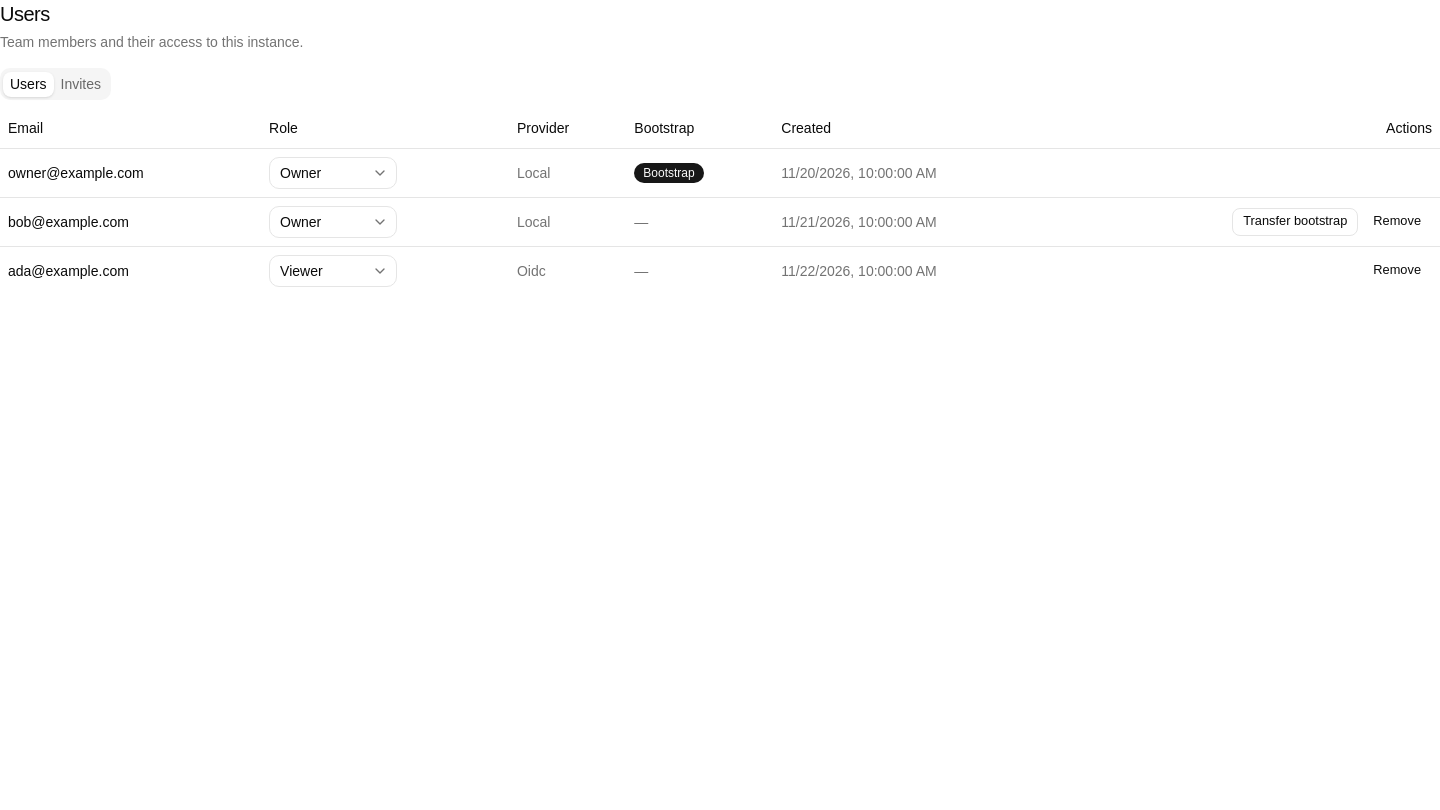
Scenario: users › creates an invite and shows only the link, not the token
Click the tab "Invites" at (81, 84), box [54,72,108,96]
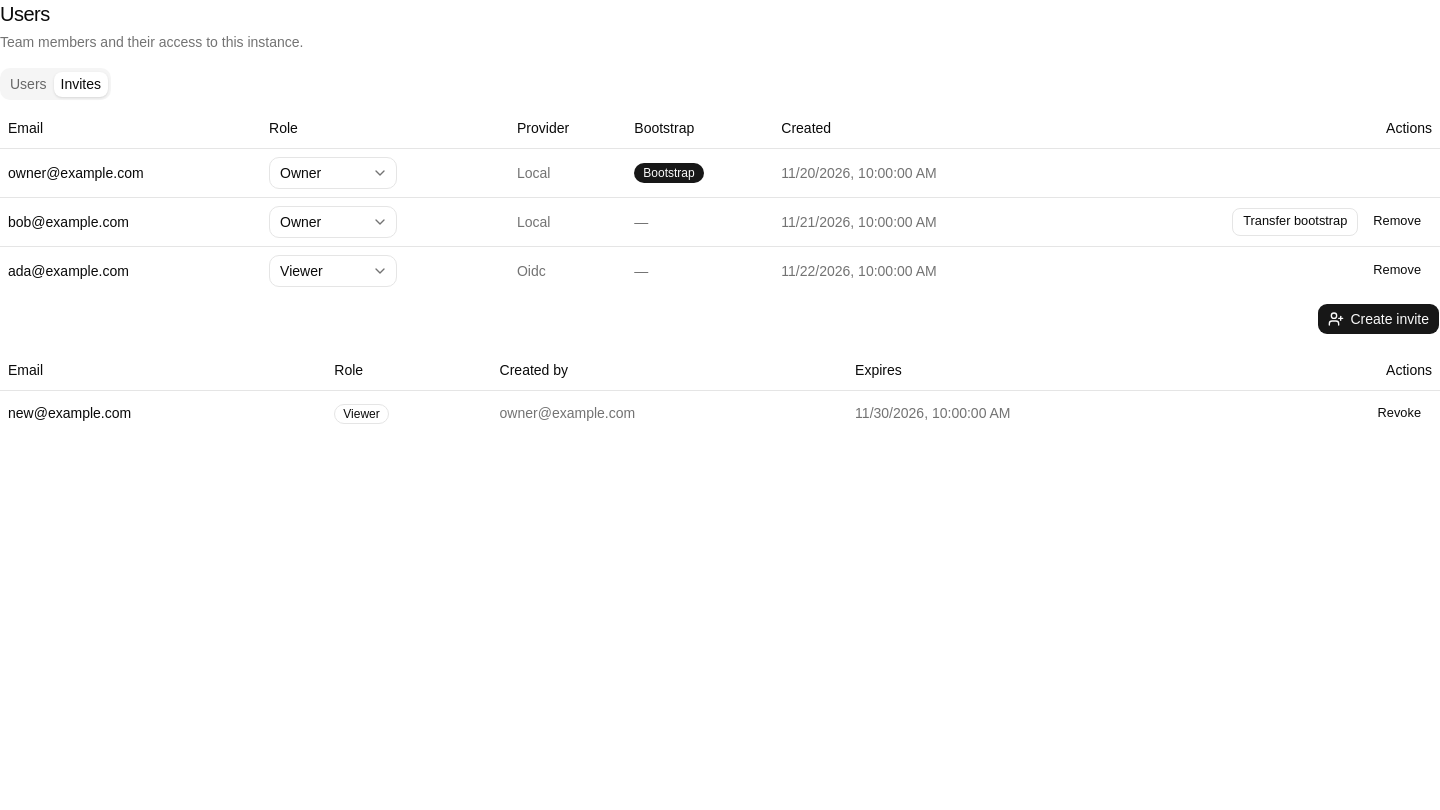
Click the button "Create invite" at (1379, 318), box [1317,302,1439,334]
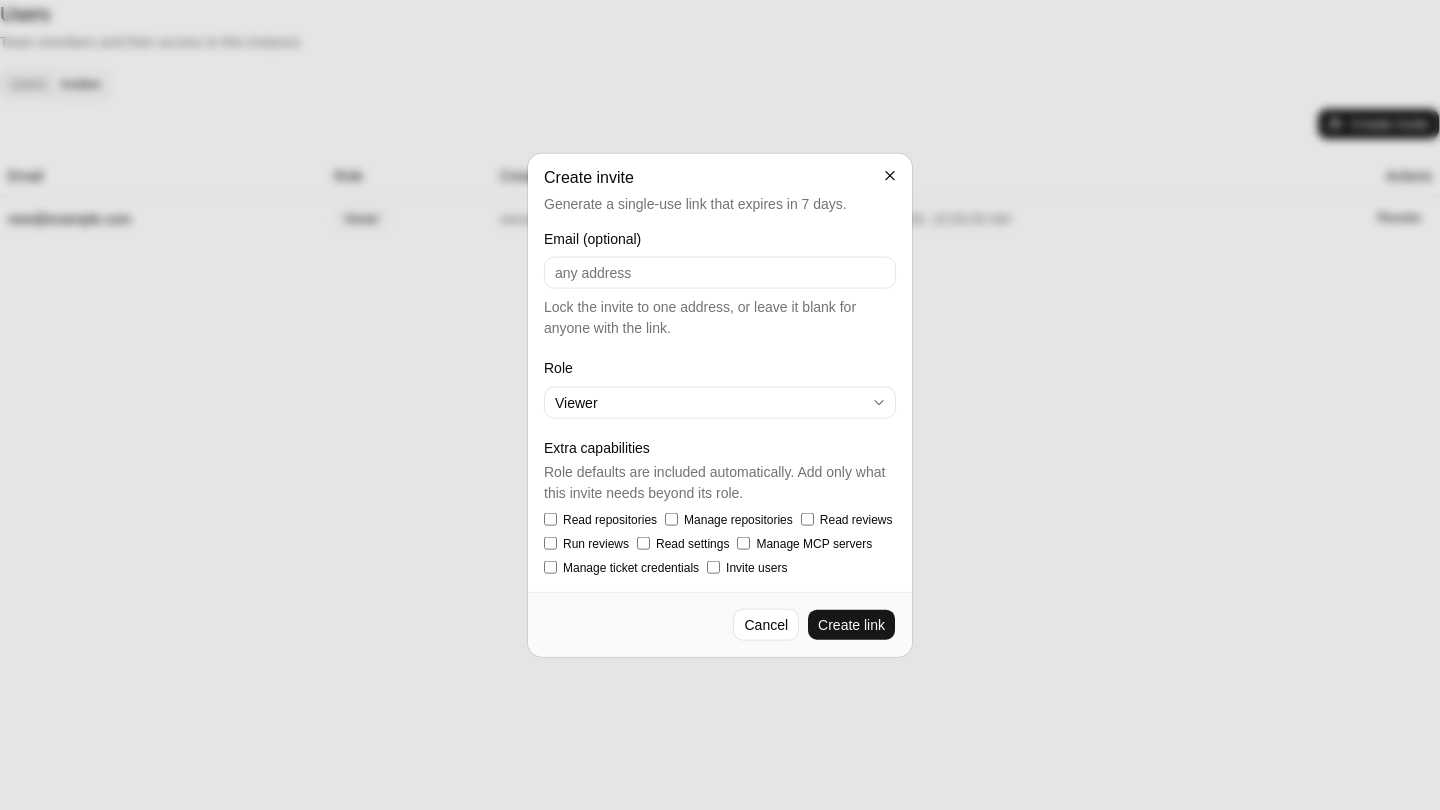
Type "new@example.com" into the field labelled "Email (optional)" at (720, 273), box [544,257,896,289]
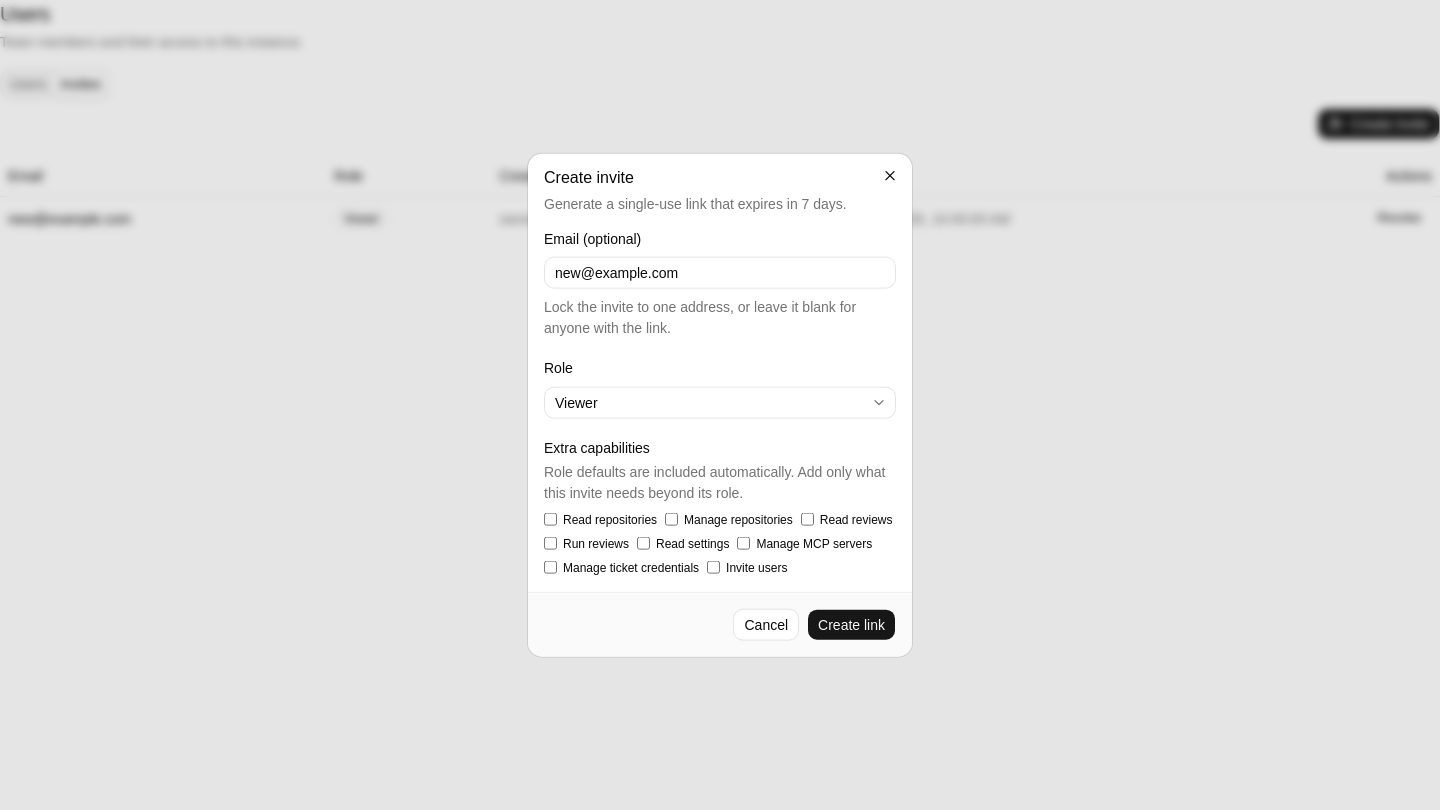
Click the button "Create link" at (852, 624), box [807,608,896,640]
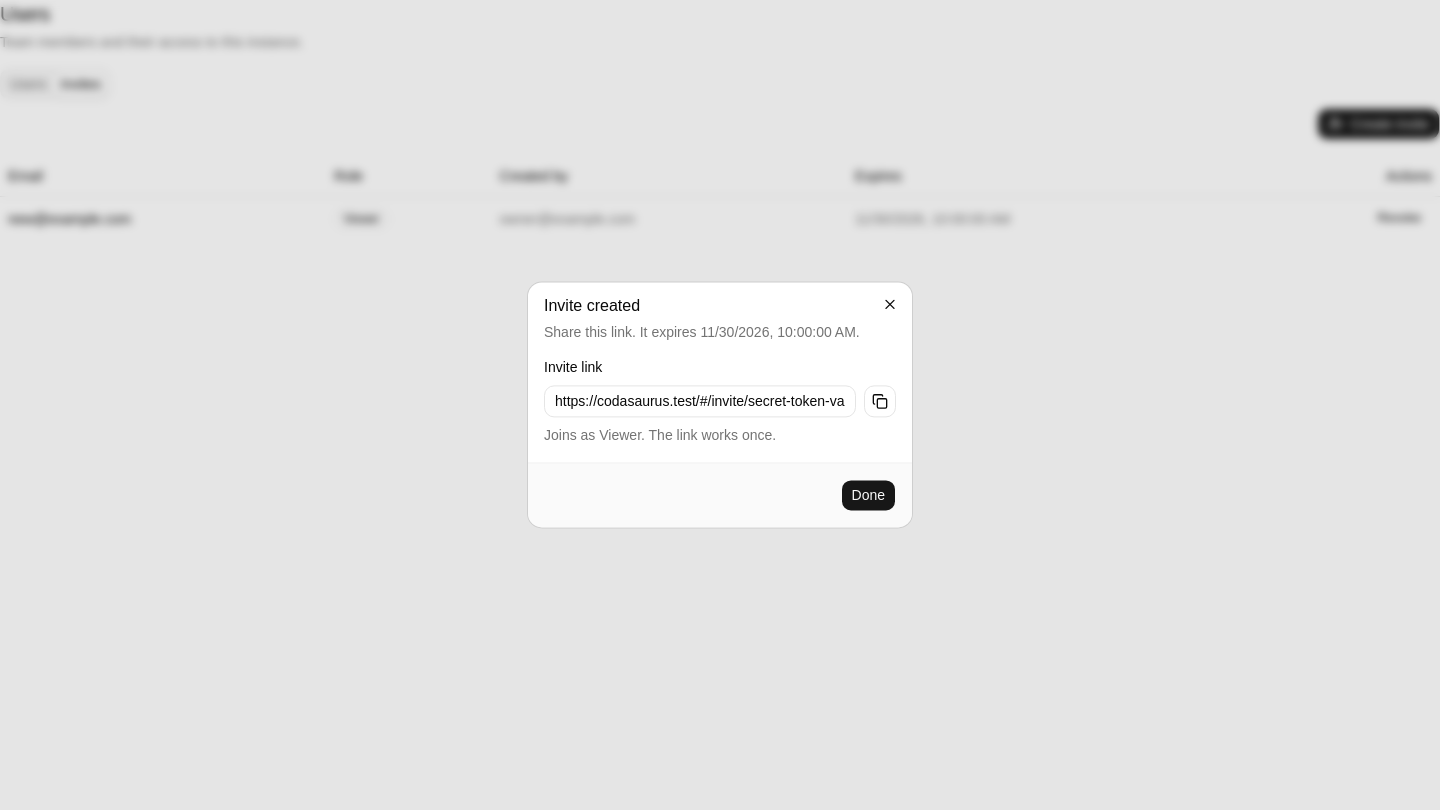
Expected: the field named "Invite URL" holds "https://codasaurus.test/#/invite/secret-token-value", [544,386,856,418]
